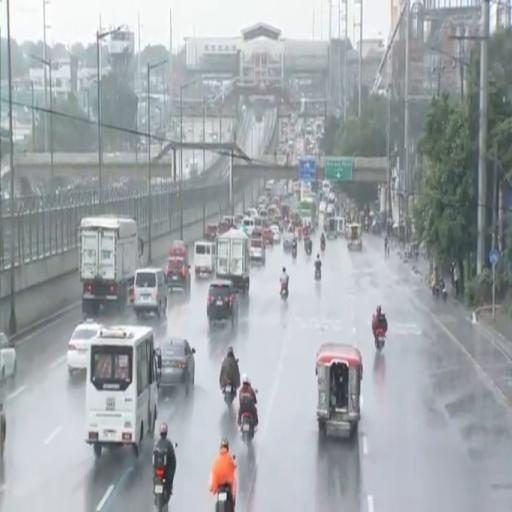bus: (86, 326, 158, 456)
car: (156, 338, 195, 392), (67, 319, 101, 375), (133, 268, 167, 317), (207, 280, 238, 326), (166, 256, 190, 294), (0, 333, 16, 381), (262, 228, 273, 246), (270, 224, 280, 243), (319, 201, 326, 213)
jeepney: (316, 344, 362, 437), (347, 223, 362, 250)
motorcycle: (153, 451, 170, 511), (154, 467, 169, 511), (215, 485, 234, 511), (240, 412, 254, 443), (241, 412, 254, 443), (224, 380, 236, 406), (0, 411, 6, 459), (375, 328, 385, 351), (280, 283, 288, 300), (441, 284, 447, 302), (432, 284, 439, 299), (305, 242, 312, 255), (315, 267, 321, 280), (321, 240, 325, 252), (292, 247, 296, 259)
truck: (79, 216, 142, 317), (216, 229, 250, 295), (298, 198, 317, 229)
